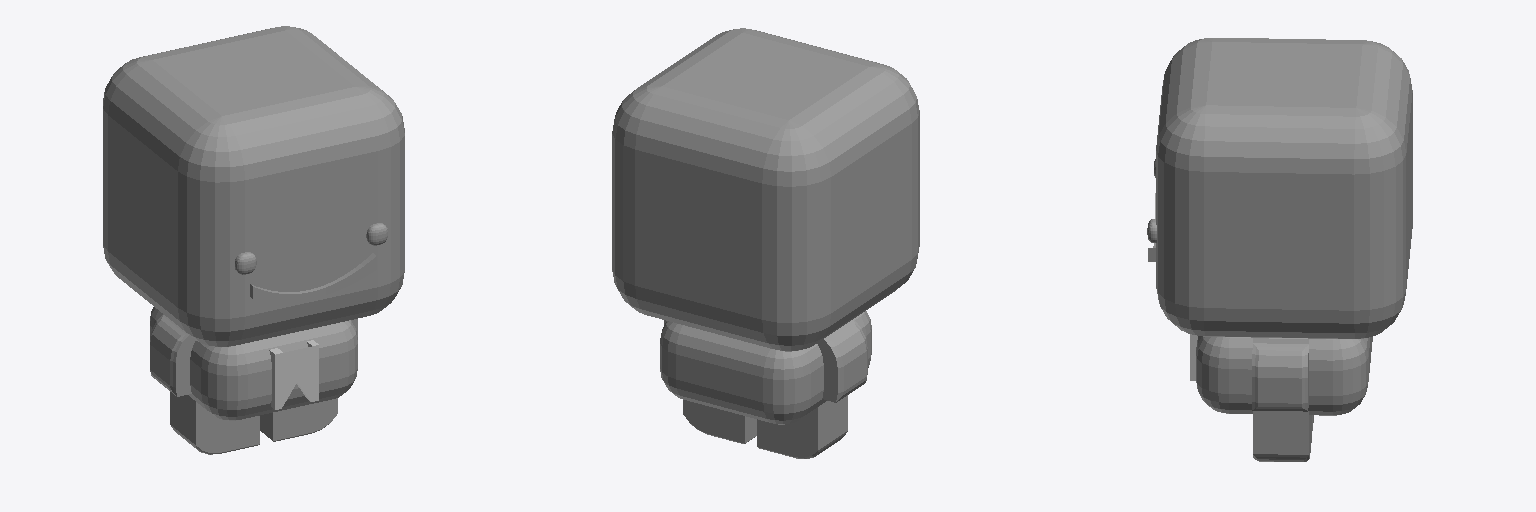
The model's file is unit.obj.
3 renders of one model, left to right at view 1: azimuth 30°, elevation 25°; view 2: azimuth 150°, elevation 25°; view 3: azimuth 270°, elevation 25°, orthographic.
Visible parts, largest first — view 1: The_limited_1_Head_1, The_limited_1_Body, The_limited_1_N_Text___N1_N2_Cap_1, The_limited_1_mouth; view 2: The_limited_1_Head_1, The_limited_1_Body; view 3: The_limited_1_Head_1, The_limited_1_Body.
Part boxes in pixels (x1,y1,x2,y2): The_limited_1_Head_1: (103,26,404,346); The_limited_1_Body: (150,307,357,454); The_limited_1_N_Text___N1_N2_Cap_1: (275,345,318,409); The_limited_1_mouth: (250,253,376,302); The_limited_1_Head_1: (612,28,919,351); The_limited_1_Body: (660,311,871,458); The_limited_1_Head_1: (1156,38,1412,338); The_limited_1_Body: (1196,336,1372,461).
Bounding box in the file's own units: 2.13 × 3.32 × 2.2.